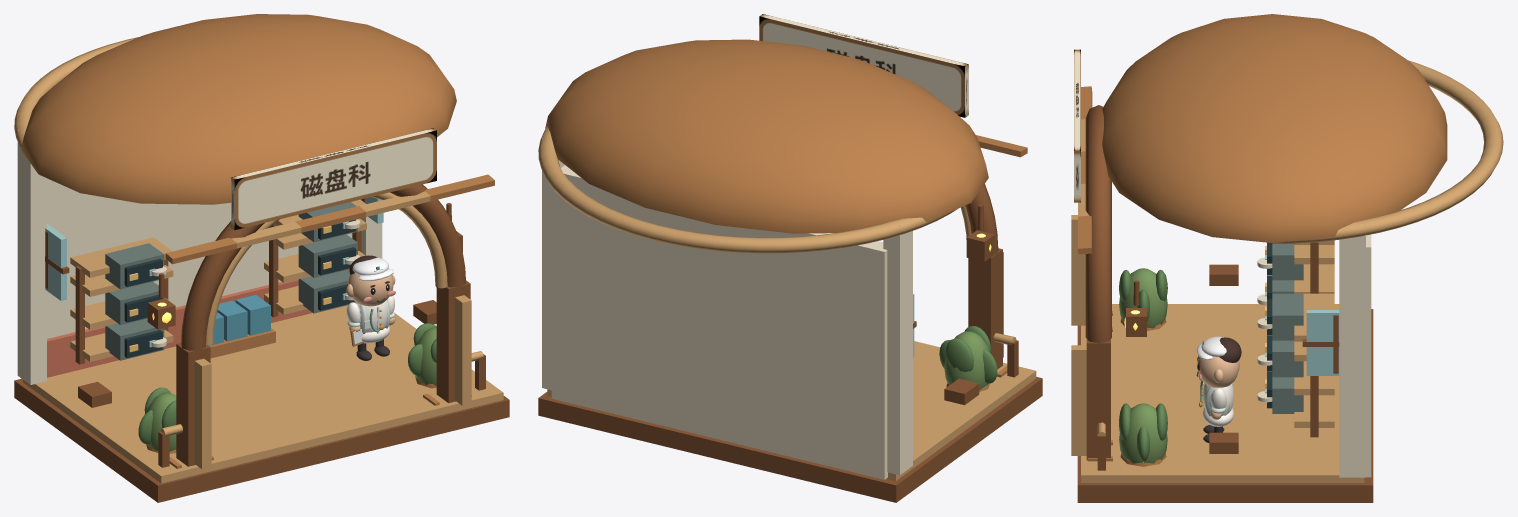
Rendered from disk.glb.
The picture shows the model from 3 angles, left to right: view 1: azimuth 30°, elevation 25°; view 2: azimuth 150°, elevation 25°; view 3: azimuth 270°, elevation 25°; orthographic projection. The views are drawn at different scales.
Visible parts, largest first — view 1: static batch geometry (×9), static batch platform, sign-磁盘科, disk clinic, large-head; view 2: static batch geometry (×5), static batch platform, sign-磁盘科; view 3: static batch geometry (×8), static batch platform, sign-磁盘科, large-head.
Boxes of the visible parts, <box> form: static batch geometry (×9): <box>14,14,503,483</box>; static batch platform: <box>14,184,509,502</box>; sign-磁盘科: <box>231,128,436,229</box>; disk clinic: <box>47,269,349,377</box>; large-head: <box>348,273,393,306</box>; static batch geometry (×5): <box>538,39,1036,480</box>; static batch platform: <box>538,184,1042,502</box>; sign-磁盘科: <box>759,14,968,117</box>; static batch geometry (×8): <box>1071,14,1503,482</box>; static batch platform: <box>1077,105,1373,502</box>; sign-磁盘科: <box>1074,49,1080,202</box>; large-head: <box>1197,356,1239,387</box>.
Bounding box in the file's own units: 6.84 × 5.62 × 6.21.
Materials: 28 (1 with a texture image).
